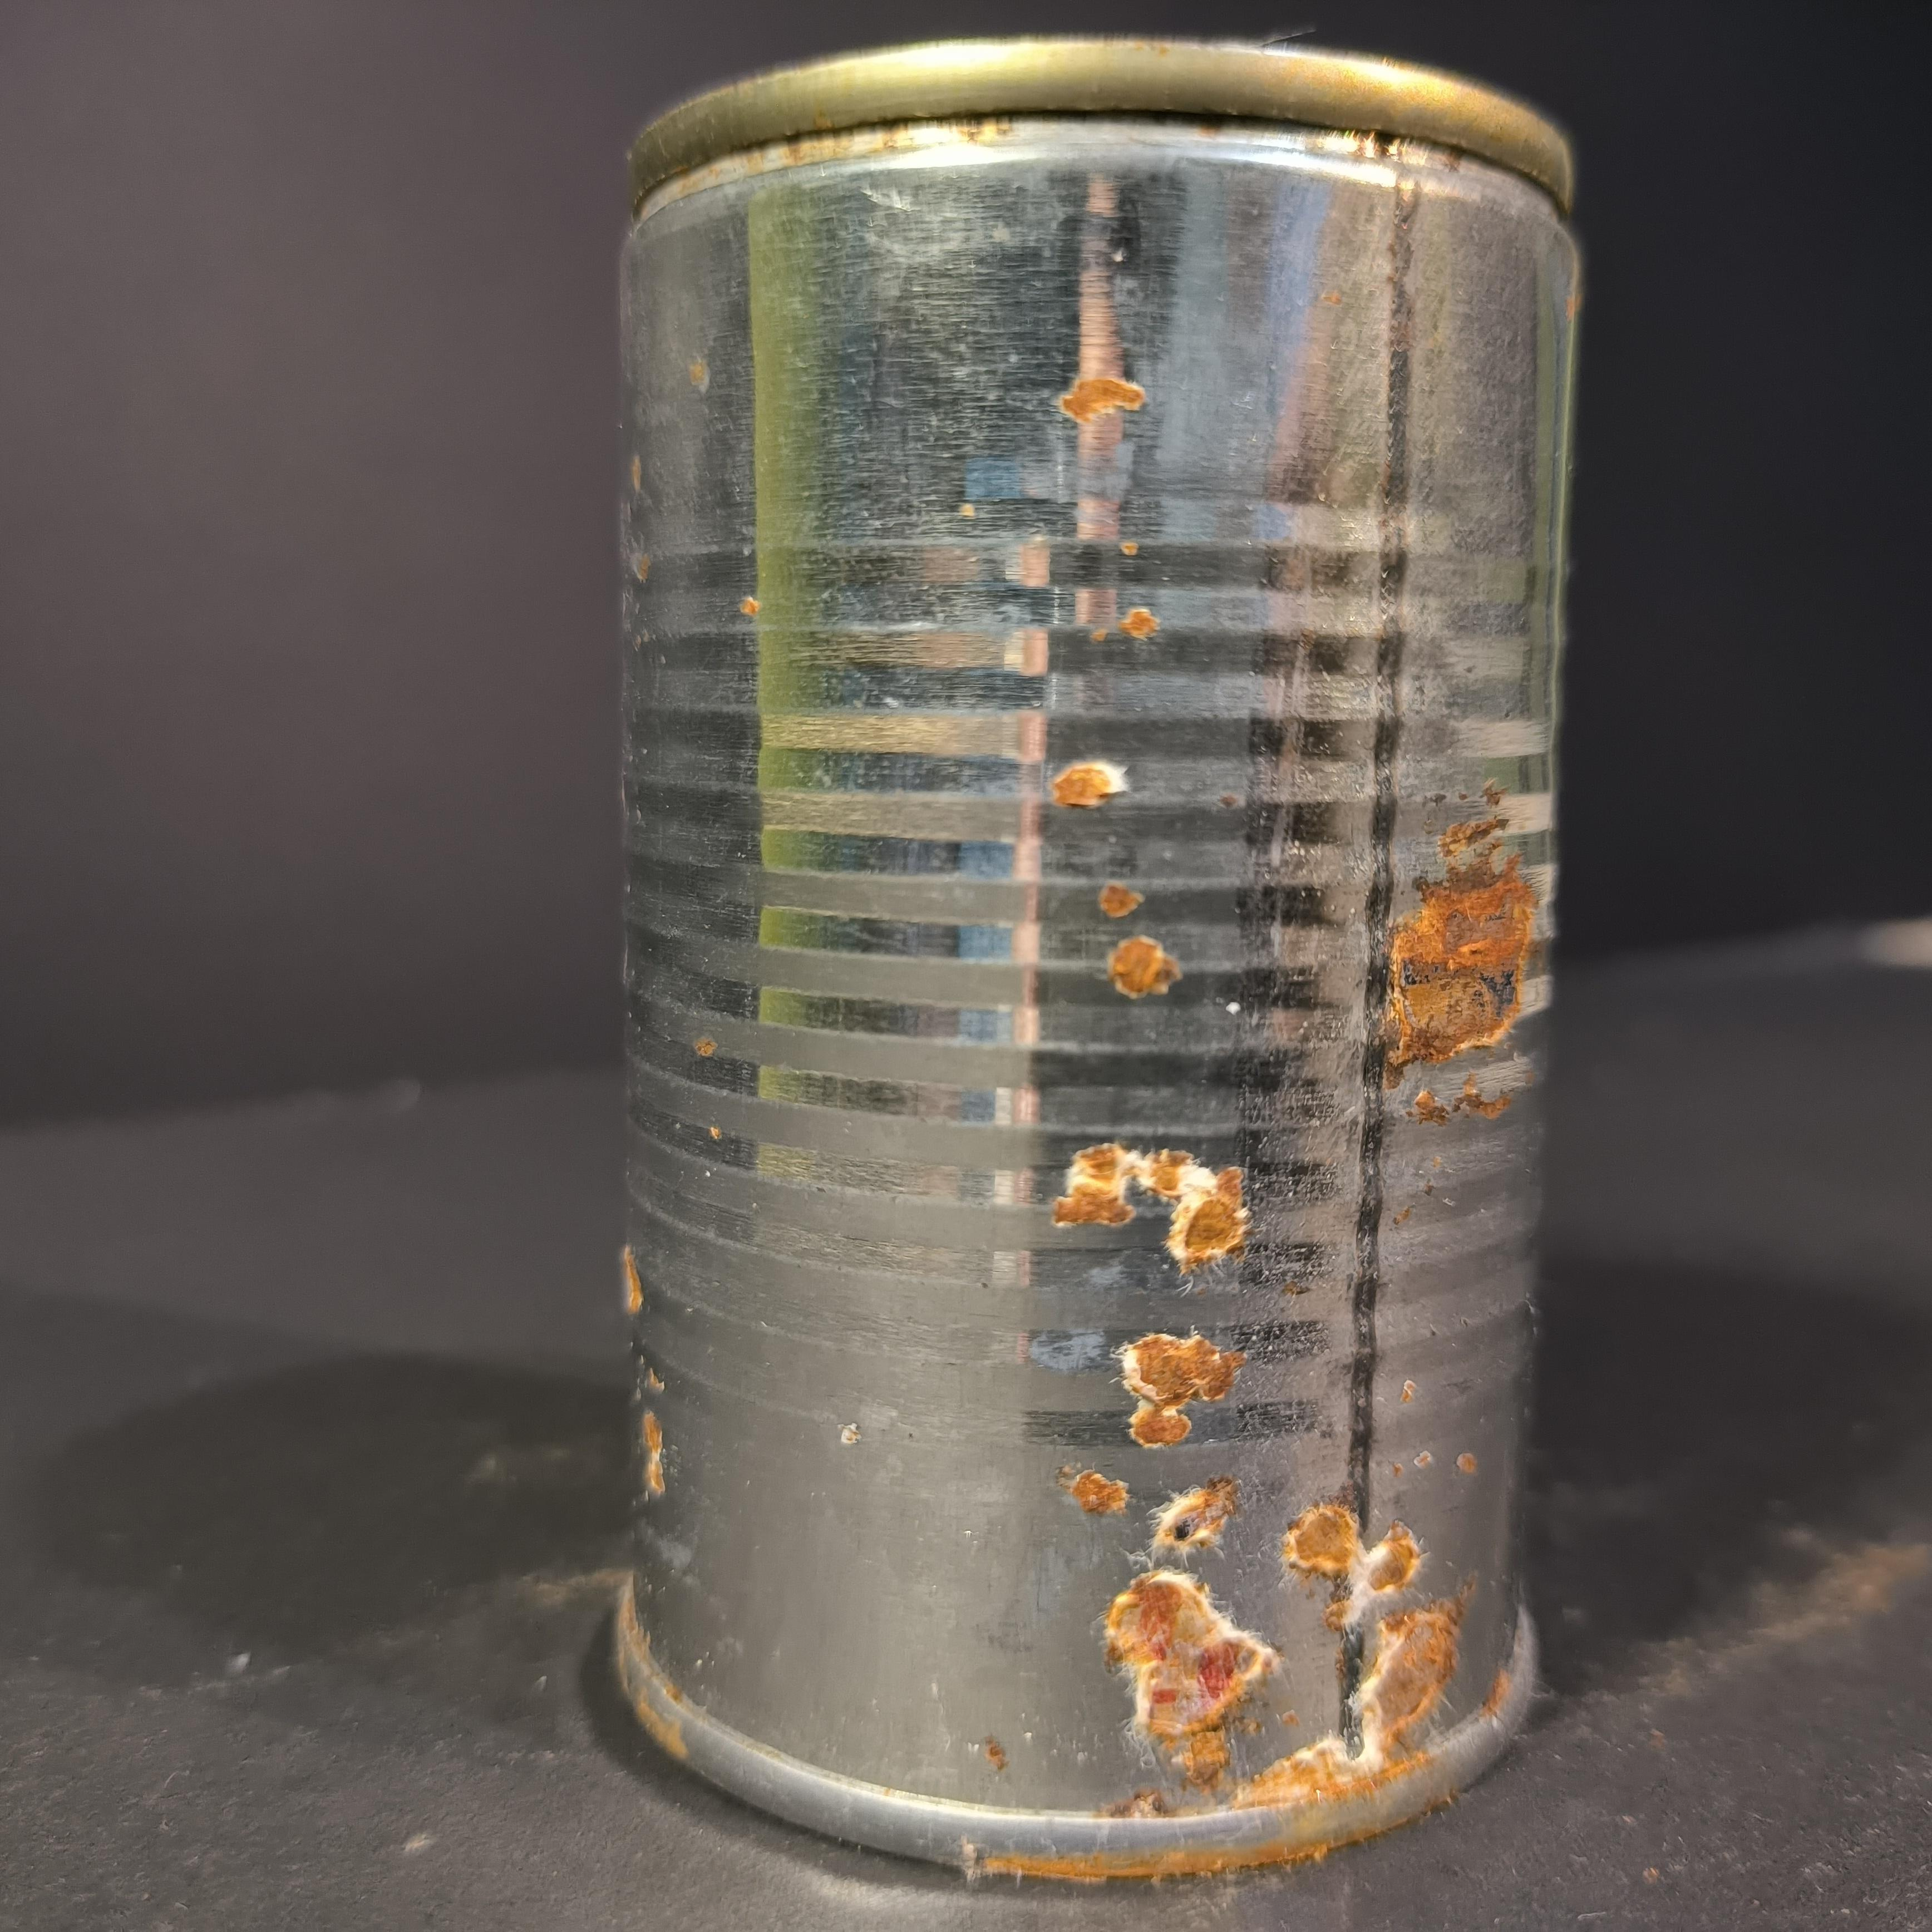Rusted: (584, 19, 1585, 1877)
